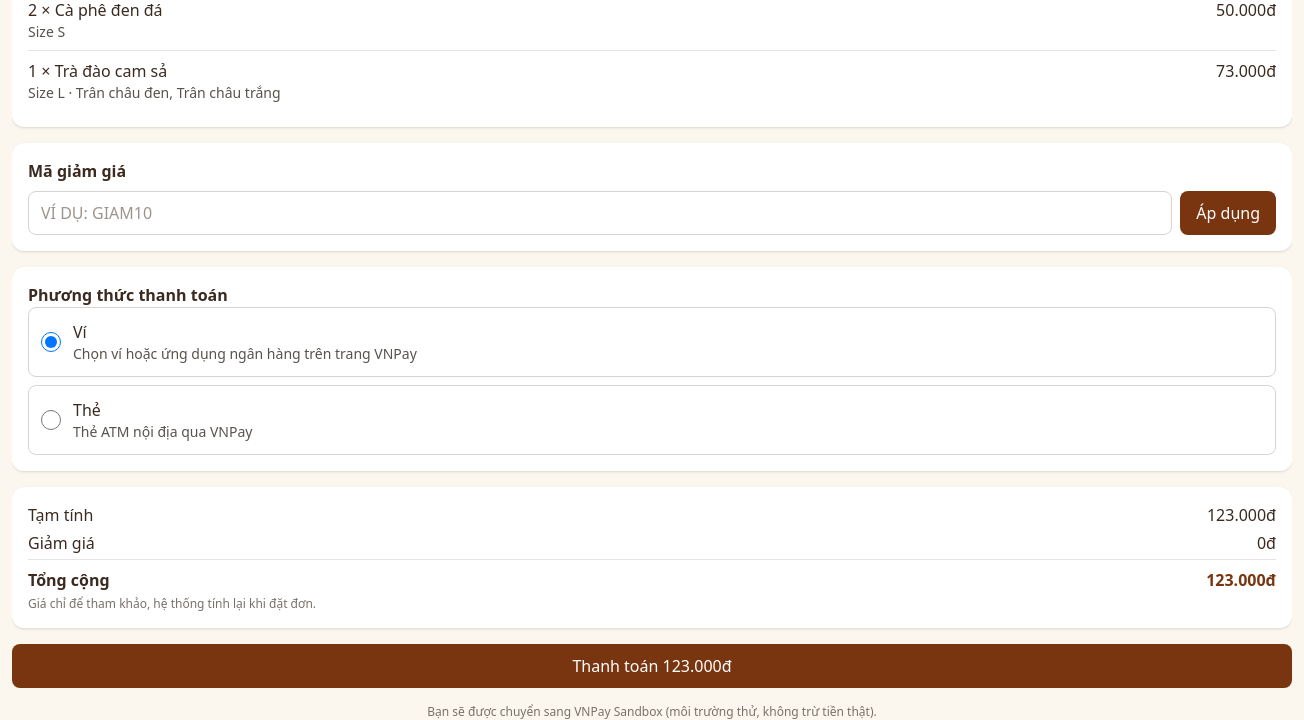
Test: Màn Checkout (CT-69 – CT-74) › CT-74: đã tạo đơn nhưng tạo giao dịch lỗi thì báo lỗi kèm đường dẫn mở đơn để thanh toán tiếp
(page scrolled)
Click the button "Thanh toán 123.000đ": x=652, y=666 [12,644,1292,688]
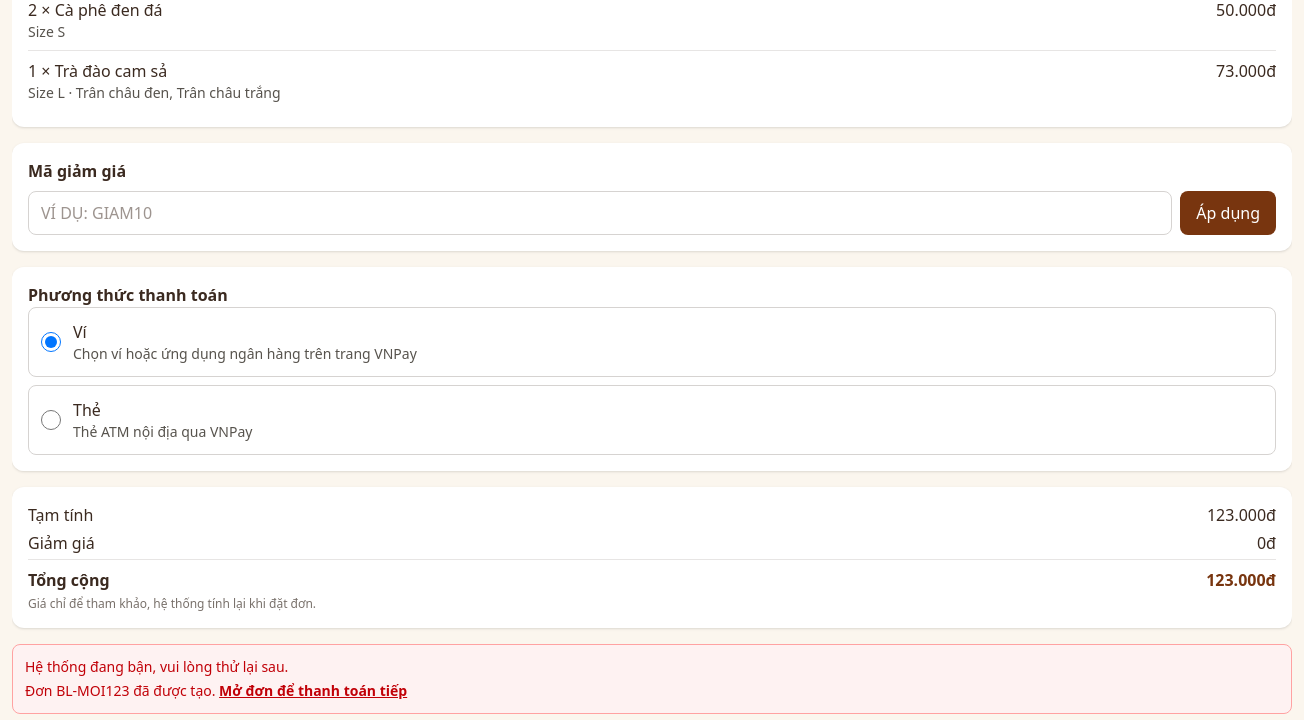
Check: the message shows "Hệ thống đang bận, vui lòng thử lại sau.", box [25,657,288,676]
Check: the message shows "Đơn BL-MOI123 đã được tạo.", box [12,644,1292,714]
